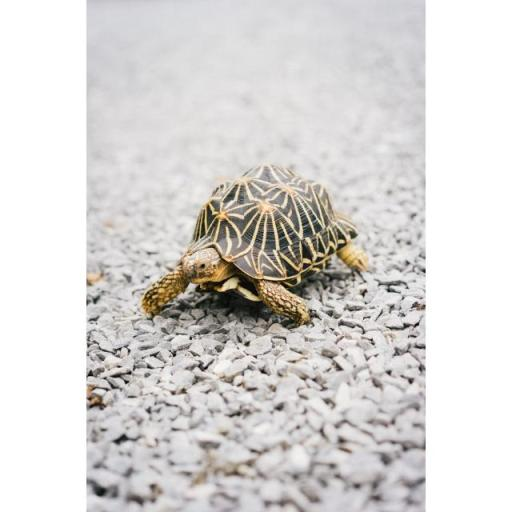turtle: (142, 163, 368, 325)
